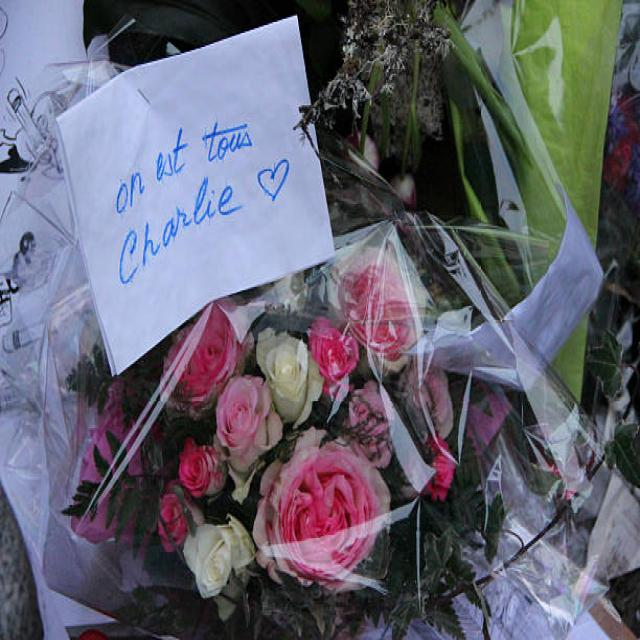paper: (306, 6, 456, 132), (266, 435, 385, 569), (220, 368, 274, 480)
